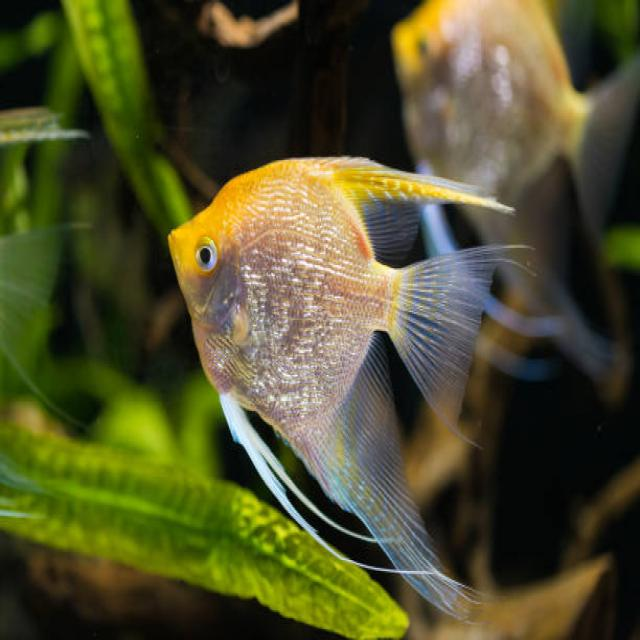AngelFish: (168, 155, 538, 621), (393, 0, 638, 378)
